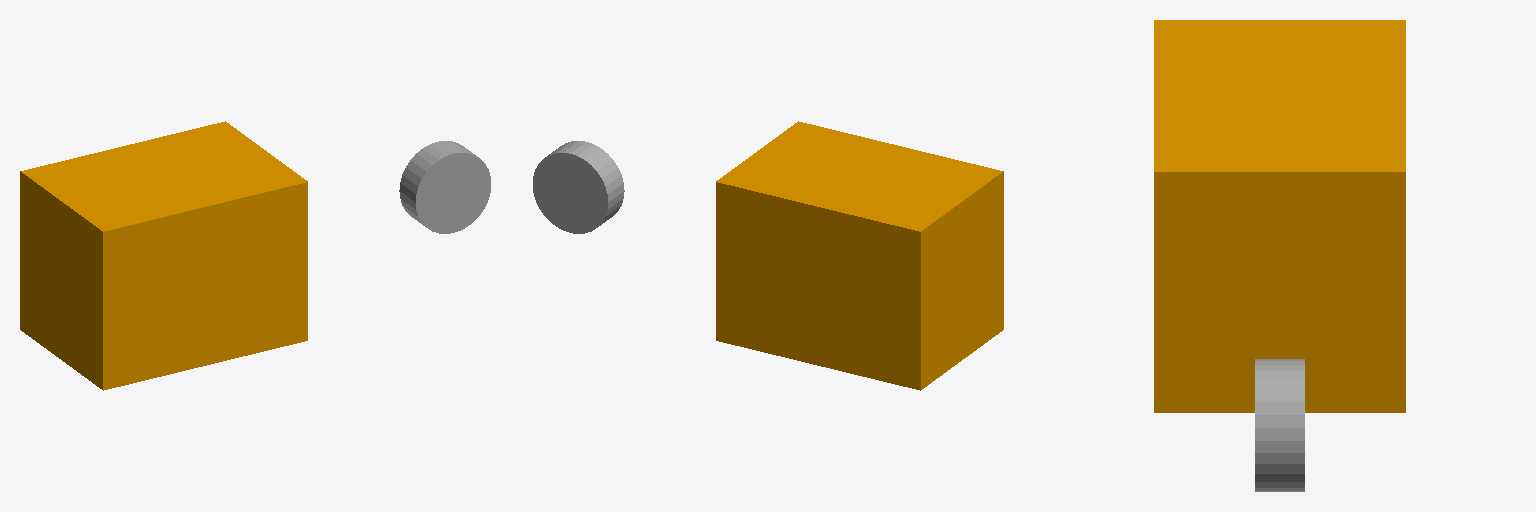
The robot description file, URDF, robot "automow":
<?xml version="1.0" ?>
<!-- =================================================================================== -->
<!-- |    This document was autogenerated by xacro from automow.urdf.xacro             | -->
<!-- |    EDITING THIS FILE BY HAND IS NOT RECOMMENDED                                 | -->
<!-- =================================================================================== -->
<robot name="automow" xmlns:controller="http://playerstage.sourceforge.net/gazebo/xmlschema/#controller" xmlns:interface="http://playerstage.sourceforge.net/gazebo/xmlschema/#interface" xmlns:sensor="http://playerstage.sourceforge.net/gazebo/xmlschema/#sensor" xmlns:xacro="http://ros.org/wiki/xacro">
  <material name="Green">
    <color rgba="0.0 0.8 0.0 1.0"/>
  </material>
  <material name="Red">
    <color rgba="0.8 0.0 0.0 1.0"/>
  </material>
  <material name="White">
    <color rgba="1.0 1.0 1.0 1.0"/>
  </material>
  <material name="Blue">
    <color rgba="0.0 0.0 0.8 1.0"/>
  </material>
  <material name="Black">
    <color rgba="0.0 0.0 0.0 1.0"/>
  </material>
  <material name="Grey">
    <color rgba="0.7 0.7 0.7 0.7"/>
  </material>
  <link name="base_link">
    <inertial>
      <mass value="100"/>
      <origin xyz="0 0 0"/>
      <inertia ixx="5" ixy="0.0" ixz="0.0" iyy="5" iyz="0.0" izz="5"/>
    </inertial>
    <visual>
      <origin rpy="0 0 0" xyz="0 0 0"/>
      <geometry>
        <!--  <mesh filename="package://automow_description/meshes/base/base.stl"/> -->
        <box size="0.73 0.51 0.54"/>
      </geometry>
    </visual>
    <collision>
      <origin rpy="0 0 0" xyz="0 0 0"/>
      <geometry>
        <!--  <mesh filename="package://automow_description/meshes/base/base.stl"/> -->
        <box size="0.73 0.51 0.54"/>
      </geometry>
    </collision>
  </link>
  <link name="base_footprint">
    <inertial>
      <mass value="0.0001"/>
      <inertia ixx="0.0001" ixy="0.0" ixz="0.0" iyy="0.0001" iyz="0.0" izz="0.0001"/>
    </inertial>
    <visual>
      <origin xyz="0 0 0"/>
      <geometry>
        <box size="0.001 0.001 0.001"/>
      </geometry>
      <material name="Red"/>
    </visual>
    <collision>
      <origin xyz="0 0 0.065"/>
      <geometry>
        <box size="0.001 0.001 0.001"/>
      </geometry>
    </collision>
  </link>
  <joint name="base_footprint_joint" type="fixed">
    <origin rpy="0 0 0" xyz="0 0 0.065"/>
    <child link="base_link"/>
    <parent link="base_footprint"/>
  </joint>
  <joint name="base_link_l_wheel_joint" type="continuous">
    <axis xyz="0 1 0"/>
    <limit effort="100" velocity="100"/>
    <safety_controller k_velocity="10"/>
    <dynamics damping="0.0" friction="0.0"/>
    <origin rpy="0 0 0" xyz="1 0 0"/>
    <parent link="base_link"/>
    <child link="base_link_l_wheel_link"/>
  </joint>
  <link name="base_link_l_wheel_link">
    <inertial>
      <mass value="3"/>
      <origin xyz="0 0 0"/>
      <inertia ixx="0.01" ixy="0.0" ixz="0.0" iyy="0.01" iyz="0.0" izz="0.01"/>
    </inertial>
    <visual>
      <origin rpy="1.57079632679 0 0" xyz="0 0 0"/>
      <geometry>
        <cylinder length="0.1" radius="0.135"/>
      </geometry>
      <material name="Grey"/>
    </visual>
    <collision>
      <origin rpy="1.57079632679 0 0" xyz="0 0 0"/>
      <geometry>
        <cylinder length="0.1" radius="0.135"/>
      </geometry>
    </collision>
  </link>
  <joint name="base_link_r_wheel_joint" type="continuous">
    <axis xyz="0 1 0"/>
    <limit effort="100" velocity="100"/>
    <safety_controller k_velocity="10"/>
    <dynamics damping="0.0" friction="0.0"/>
    <origin rpy="0 0 0" xyz="1 0 0"/>
    <parent link="base_link"/>
    <child link="base_link_r_wheel_link"/>
  </joint>
  <link name="base_link_r_wheel_link">
    <inertial>
      <mass value="3"/>
      <origin xyz="0 0 0"/>
      <inertia ixx="0.01" ixy="0.0" ixz="0.0" iyy="0.01" iyz="0.0" izz="0.01"/>
    </inertial>
    <visual>
      <origin rpy="1.57079632679 0 0" xyz="0 0 0"/>
      <geometry>
        <cylinder length="0.1" radius="0.135"/>
      </geometry>
      <material name="Grey"/>
    </visual>
    <collision>
      <origin rpy="1.57079632679 0 0" xyz="0 0 0"/>
      <geometry>
        <cylinder length="0.1" radius="0.135"/>
      </geometry>
    </collision>
  </link>
</robot>

--- Render facts (derived) ---
Views: 3 orthographic renders of the robot side by side, from view 1: azimuth 30°, elevation 25°; view 2: azimuth 150°, elevation 25°; view 3: azimuth 270°, elevation 25°.
Model automow with 4 links and 3 joints (2 continuous, 1 fixed), rooted at base_footprint, posed every joint at zero.
Links seen in each view (by area): view 1: base_link, base_link_l_wheel_link; view 2: base_link, base_link_l_wheel_link; view 3: base_link, base_link_l_wheel_link.
Link boxes in pixels (x1,y1,x2,y2): base_link: [20, 121, 307, 390]; base_link_l_wheel_link: [399, 141, 490, 233]; base_link: [716, 121, 1003, 390]; base_link_l_wheel_link: [533, 141, 624, 233]; base_link: [1154, 20, 1405, 412]; base_link_l_wheel_link: [1255, 359, 1304, 491].
Size in the robot's own frame: 1.5 by 0.51 by 0.54 metres.
Geometry: primitives only (box / cylinder / sphere), no mesh files.